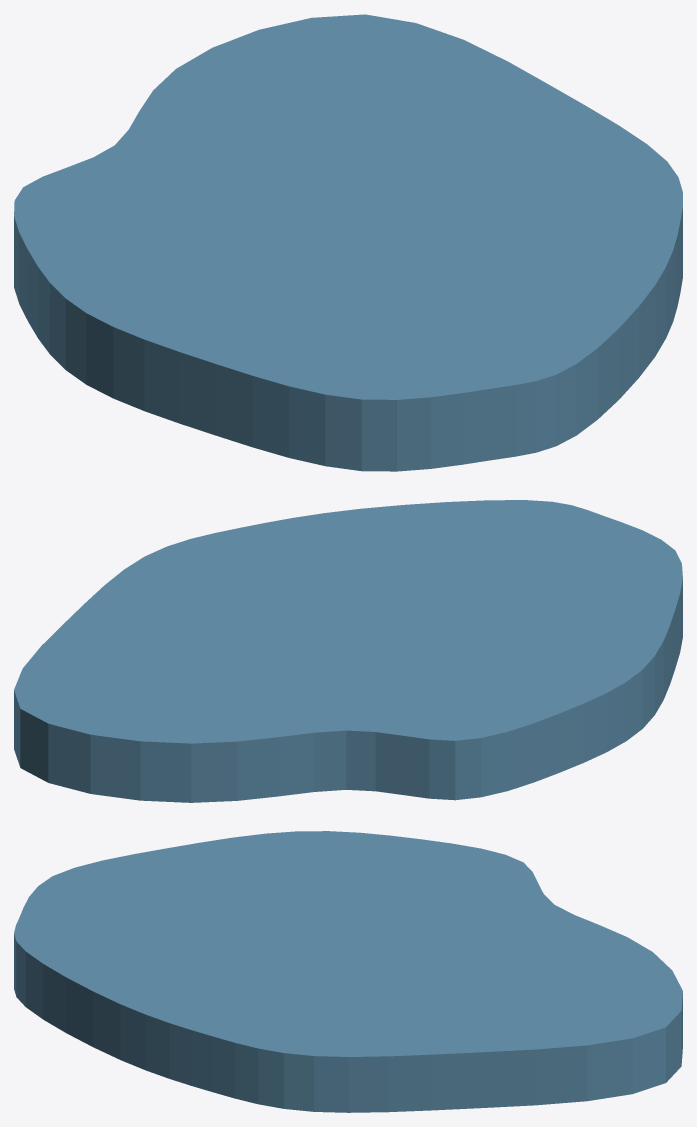
Rendered from Puddle.fbx.
The picture shows the model from 3 angles, top to bottom: view 1: azimuth 30°, elevation 25°; view 2: azimuth 150°, elevation 25°; view 3: azimuth 270°, elevation 25°; orthographic projection. The views are drawn at different scales.
Parts seen in each view (by area): view 1: Puddle; view 2: Puddle; view 3: Puddle.
Part boxes in pixels (bbox=[...]): Puddle: bbox=[14, 14, 682, 471]; Puddle: bbox=[14, 500, 682, 802]; Puddle: bbox=[14, 831, 682, 1112].
Bounding box in the file's own units: 191 × 22 × 239.
